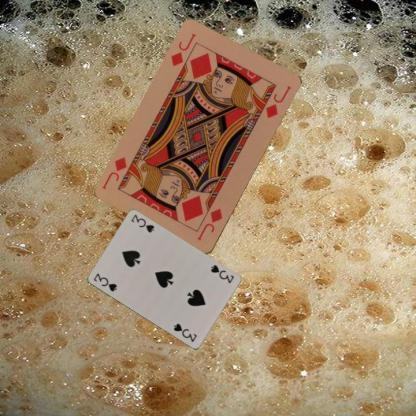3s: (91, 270, 118, 293), (208, 262, 235, 285)
Jd: (194, 206, 224, 242), (168, 31, 197, 68)
